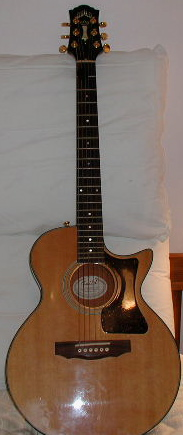guitar: (4, 5, 181, 435)
